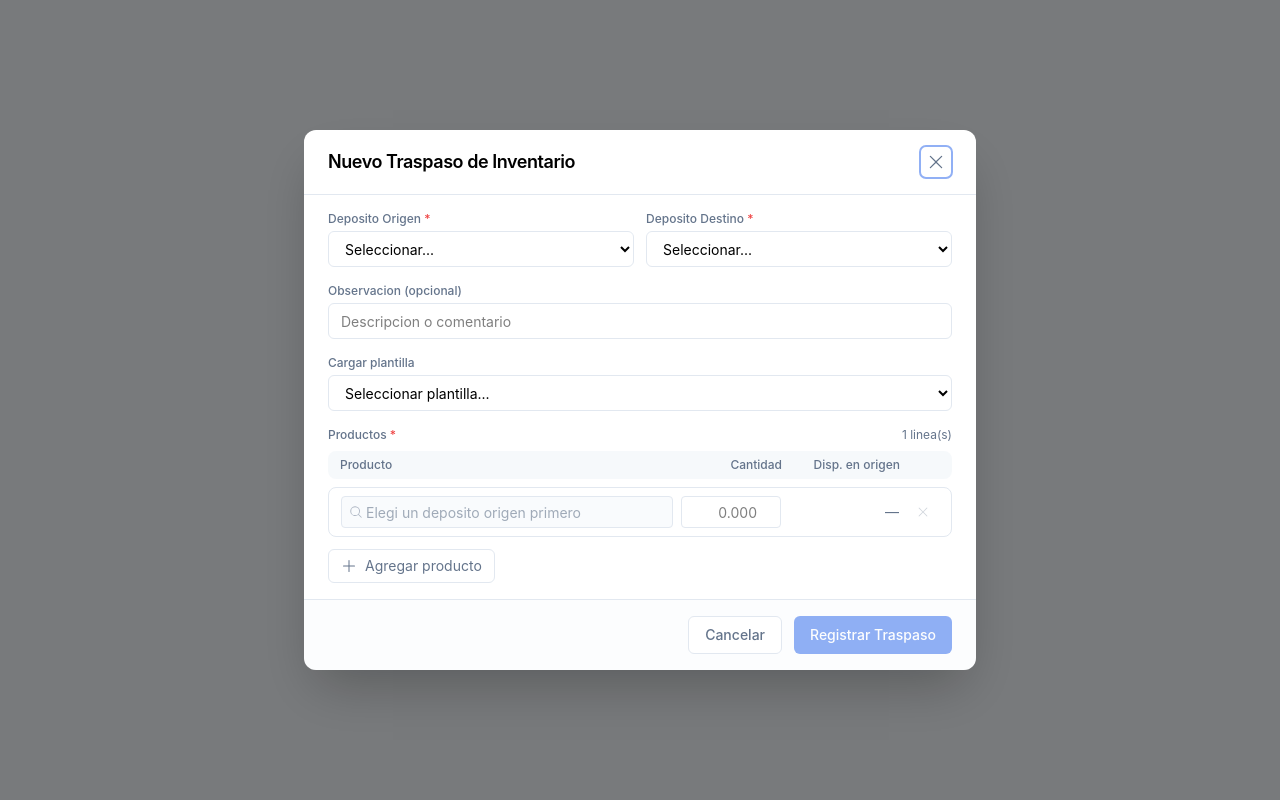
Test: TraspasoForm — buscador filtrado por stock en origen (Mejora 1) › con origen elegido, solo sugiere productos con stock > 0 en el deposito origen
Select "Deposito A" in the dropdown labelled "Deposito Origen *" at {"x": 481, "y": 249}, box [328,231,634,267]
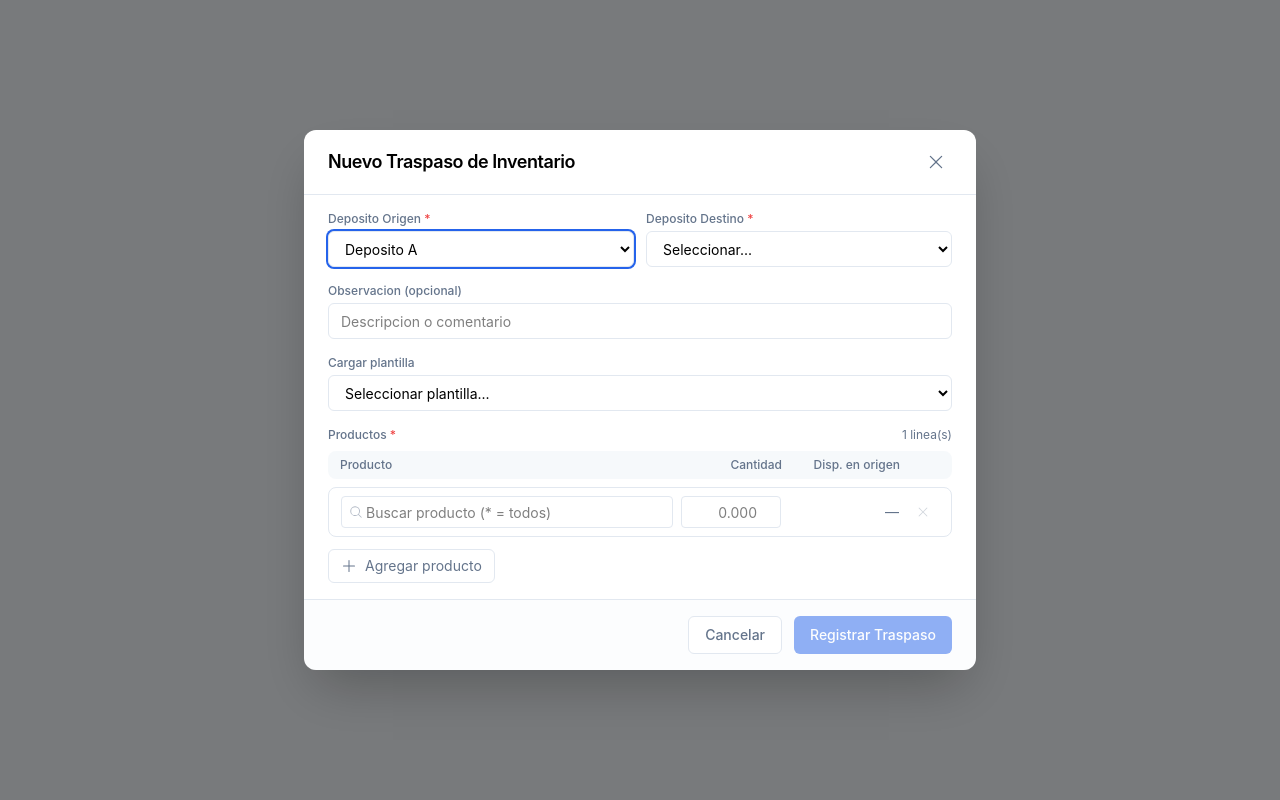
Type "*" into the field with placeholder "Buscar producto (* = todos)" at {"x": 507, "y": 512}, box [341,496,673,528]
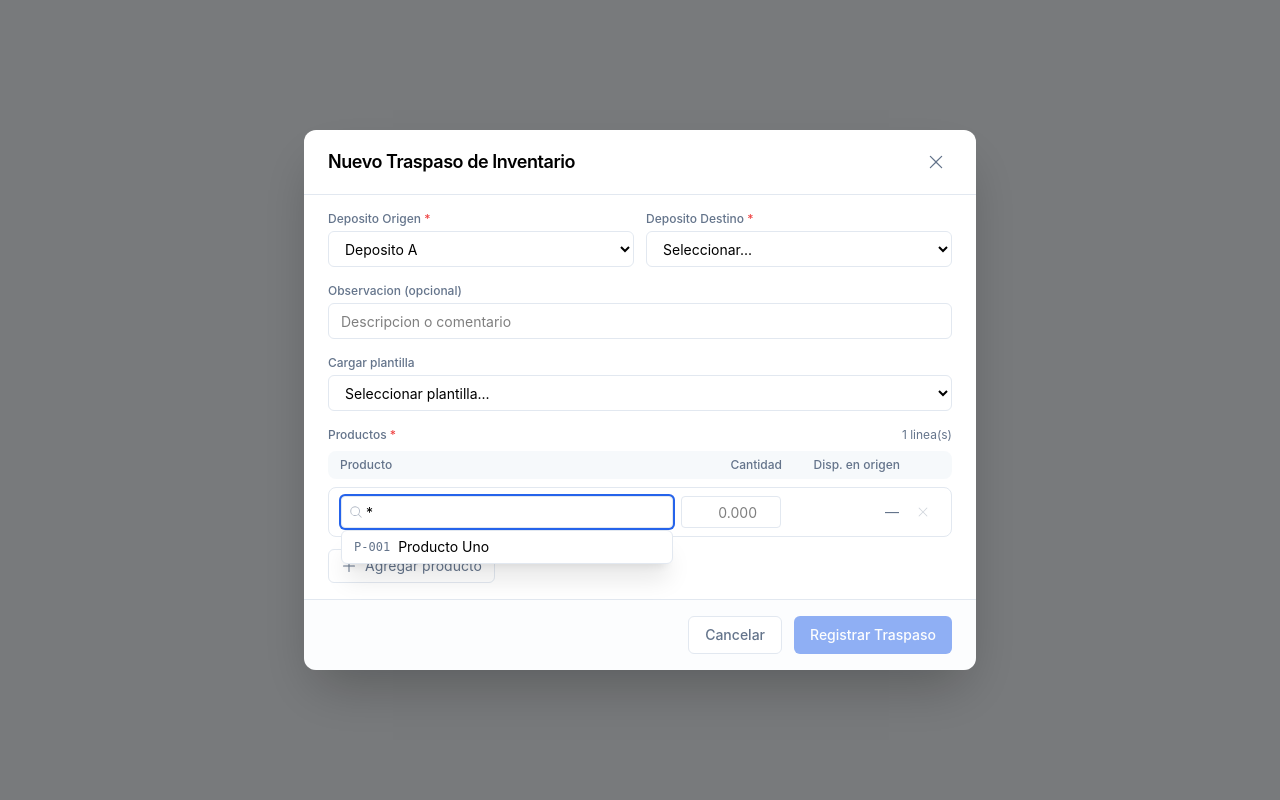
Check: the text "Producto Uno" is shown, box [398,537,489,557]
